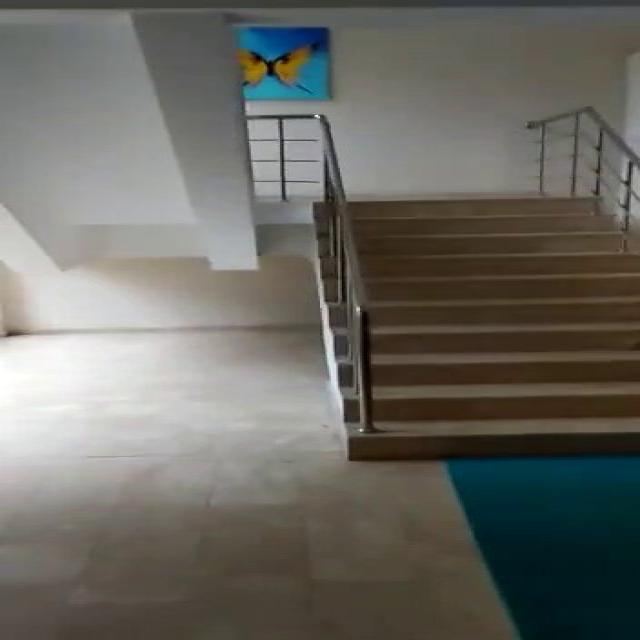stairs: (327, 194, 638, 458)
